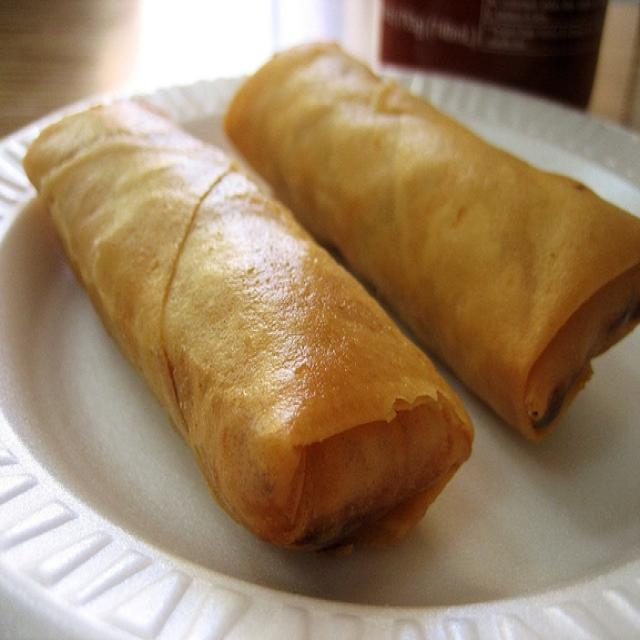炸货点心: (24, 37, 624, 591)
